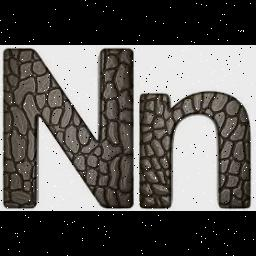n: (0, 45, 134, 211)
